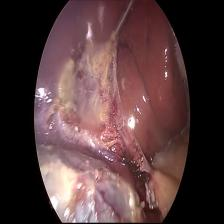Grasper: (104, 0, 137, 43)
